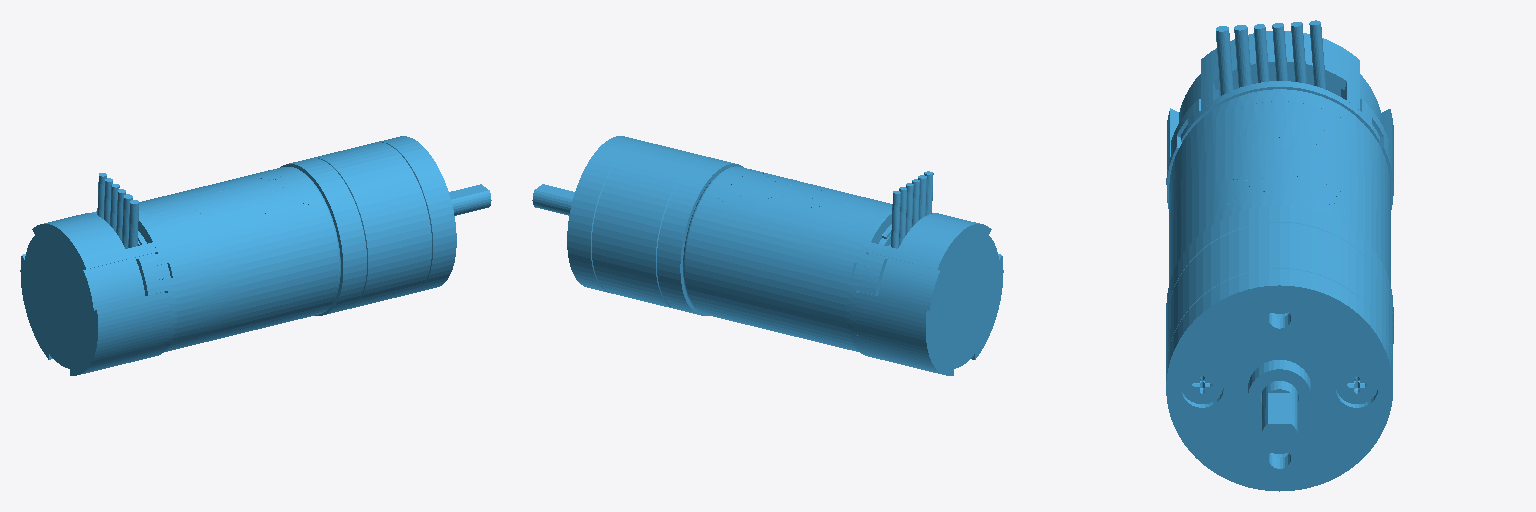
robot.urdf — single_link_arm:
<?xml version="1.0"?>

<robot name="single_link_arm">

<link name="world">
</link>

<link name="Motor">
        <visual>
            <origin rpy="1.57 0.0 1.57" xyz="0.026975 0.0 0"/>
            <geometry>
                <mesh filename="package://motor_sim/models/dcMotor.stl"/>
            </geometry>
        </visual>
</link>

<link name="Wheel">
        <visual>
            <origin rpy="1.57 0 -1.57" xyz="0.01 0.0 0"/>
            <geometry>
                <mesh filename="package://motor_sim/models/MCR2_1000_1_1_Wheel_Coupler_2.stl"/>
            </geometry>
        </visual>
</link>

<joint name="joint1" type="fixed">
    <origin xyz="0 0 1" rpy="0 0 0" />
    <parent link="world" />
    <child link="Motor" />
</joint>

<joint name="joint2" type="continuous">
    <origin xyz="0.041475 0 0" rpy="0 0 0" />
    <parent link="Motor" />
    <child link="Wheel" />
    <axis xyz="1 0 0" />
</joint>

</robot>

--- Facts derived from the render (not from the file) ---
3 views of the same robot in one strip: view 1: azimuth 30°, elevation 25°; view 2: azimuth 150°, elevation 25°; view 3: azimuth 270°, elevation 25° (orthographic).
Robot: single_link_arm — 3 links, 2 joints (1 continuous, 1 fixed); root link world; default pose: every joint at zero.
Links seen in each view (by area): view 1: Motor; view 2: Motor; view 3: Motor.
Boxes of the visible links, bbox=[...] form: Motor: bbox=[20, 136, 491, 375]; Motor: bbox=[532, 136, 1003, 375]; Motor: bbox=[1166, 20, 1393, 491].
Size in the robot's own frame: 0.079 by 0.0251 by 0.0308 metres.
1 mesh visuals loaded from 2 distinct referenced files (1 binary STL); not drawn: 1 (reference not matched to a file when rendering).